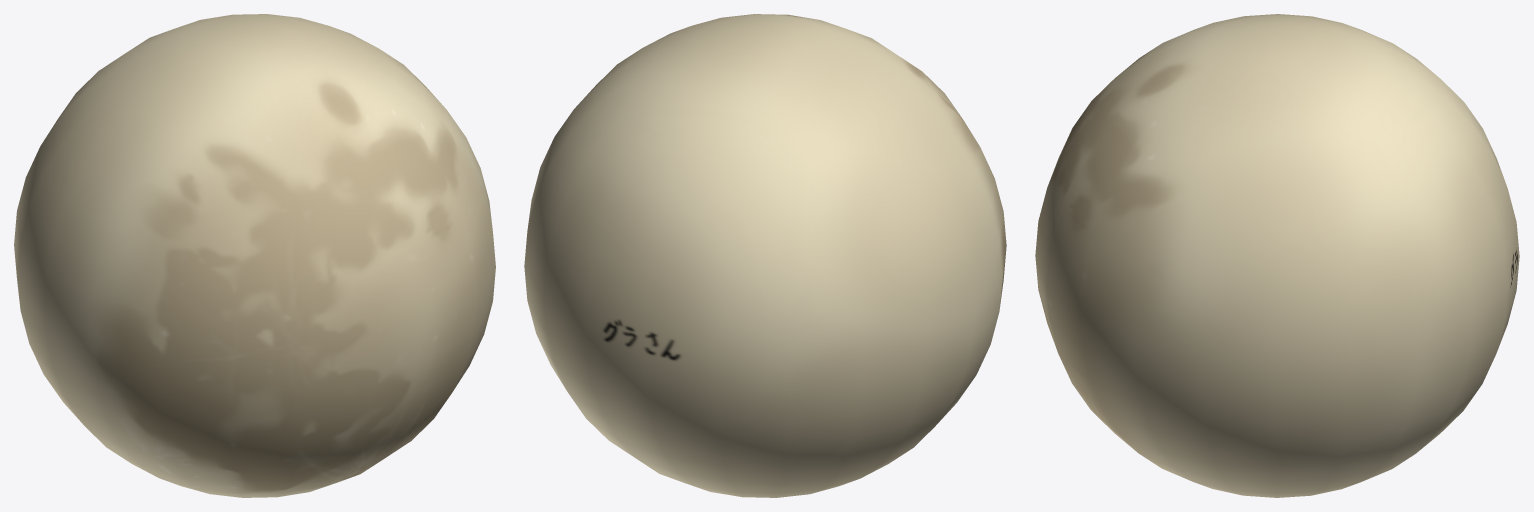
Rendered from makamisMoon3Dmodel.fbx.
3 views of the same model, side by side, from view 1: azimuth 30°, elevation 25°; view 2: azimuth 150°, elevation 25°; view 3: azimuth 270°, elevation 25° (orthographic).
Visible parts, largest first — view 1: Moon3D; view 2: Moon3D; view 3: Moon3D.
Part boxes in pixels (box(x1,y1,x2,y2)): Moon3D: box(14, 14, 495, 497); Moon3D: box(524, 14, 1006, 497); Moon3D: box(1035, 14, 1519, 497).
Bounding box in the file's own units: 2 × 2 × 2.
1 material, 1 textured.
